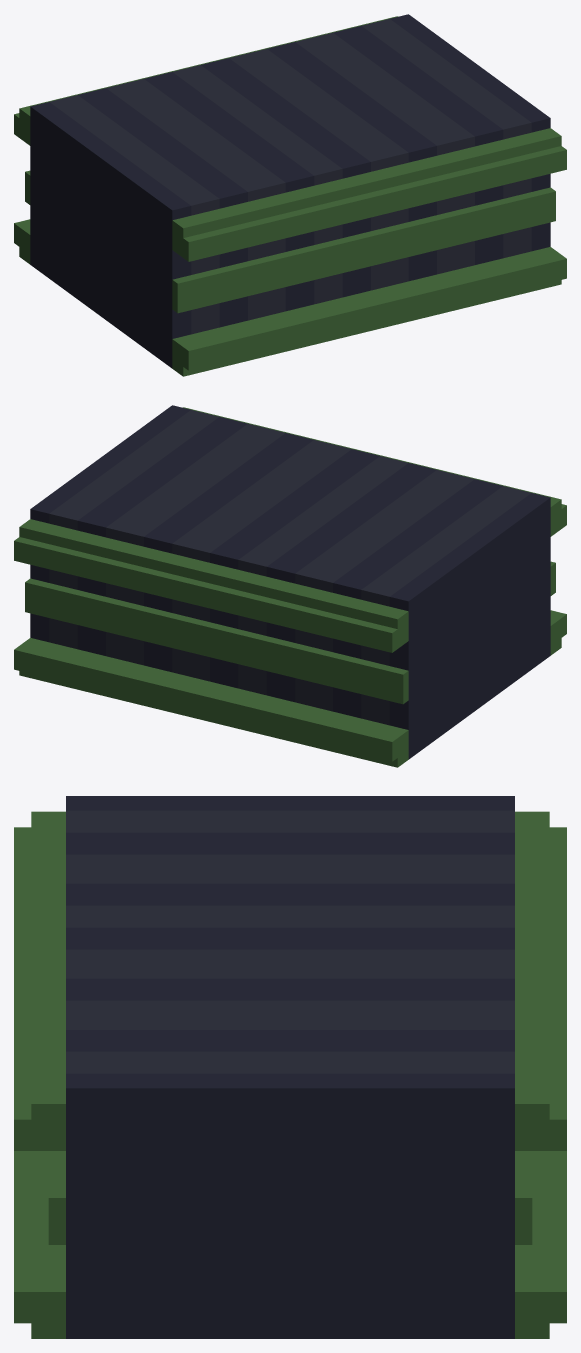
The model's file is conveyorWay.obj.
3 views of the same model, one above another, from view 1: azimuth 30°, elevation 25°; view 2: azimuth 150°, elevation 25°; view 3: azimuth 270°, elevation 25° (orthographic). The views are drawn at different scales.
Bounding box in the file's own units: 4 × 1.6 × 3.2.
1 material, 1 textured.
